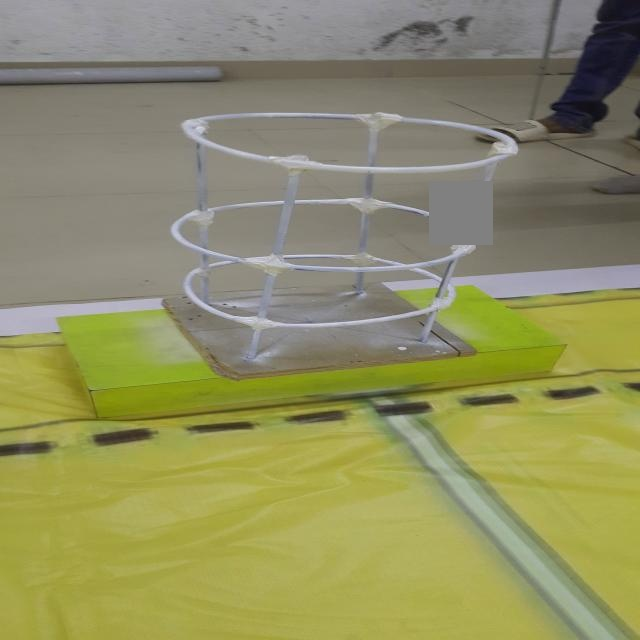silo: (159, 106, 526, 387)
